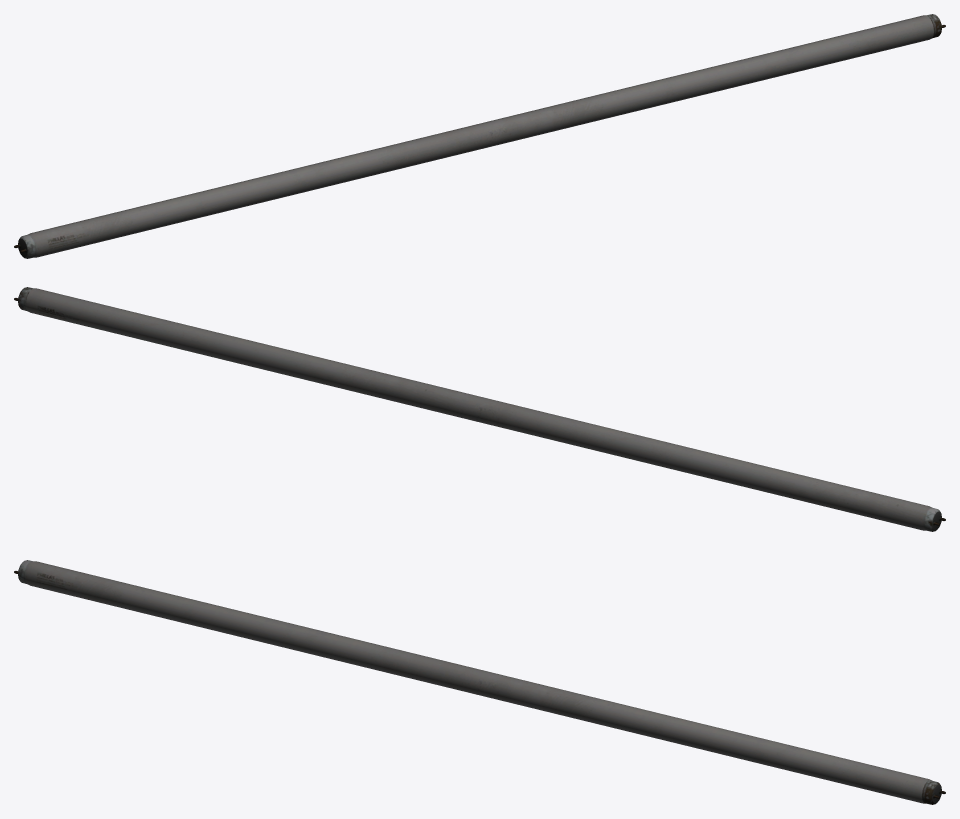
File: fluorescentTube40W_b.FBX
3 views of the same model, one above another, from view 1: azimuth 30°, elevation 25°; view 2: azimuth 150°, elevation 25°; view 3: azimuth 330°, elevation 25° (orthographic).
Visible parts, largest first — view 1: SM_Fluorescent_Tube_40W; view 2: SM_Fluorescent_Tube_40W; view 3: SM_Fluorescent_Tube_40W.
Boxes of the visible parts, left/top/right/bottom form: SM_Fluorescent_Tube_40W: left=14, top=14, right=945, bottom=258; SM_Fluorescent_Tube_40W: left=14, top=287, right=945, bottom=531; SM_Fluorescent_Tube_40W: left=14, top=560, right=945, bottom=804.
Bounding box in the file's own units: 121 × 2.85 × 2.85.
Materials: 1 (1 with a texture image).
